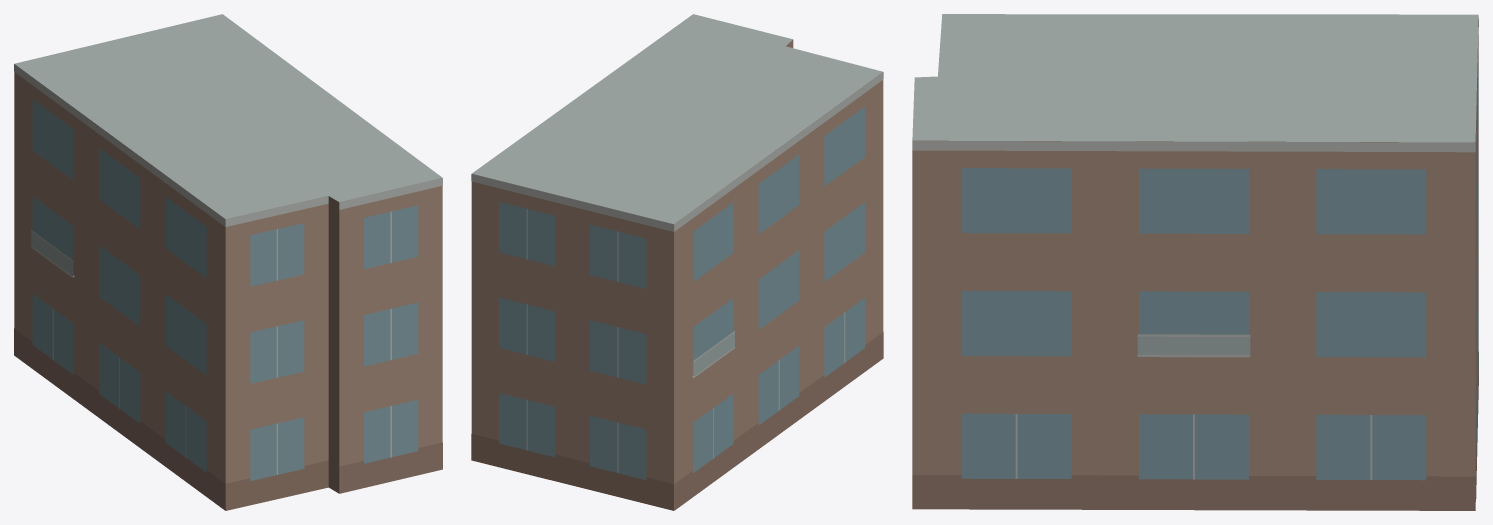
The model's file is survey-upis-32712467.glb.
3 renders of one model, left to right at view 1: azimuth 30°, elevation 25°; view 2: azimuth 150°, elevation 25°; view 3: azimuth 270°, elevation 25°, orthographic. The views are drawn at different scales.
Parts seen in each view (by area): view 1: survey-upis-32712467.tmp; view 2: survey-upis-32712467.tmp; view 3: survey-upis-32712467.tmp.
Part boxes in pixels (box(x1,y1,x2,y2)): survey-upis-32712467.tmp: box(14, 14, 442, 510); survey-upis-32712467.tmp: box(471, 14, 883, 510); survey-upis-32712467.tmp: box(912, 14, 1478, 510).
Size of the model in its own units: 6.82 by 9.1 by 12.69.
